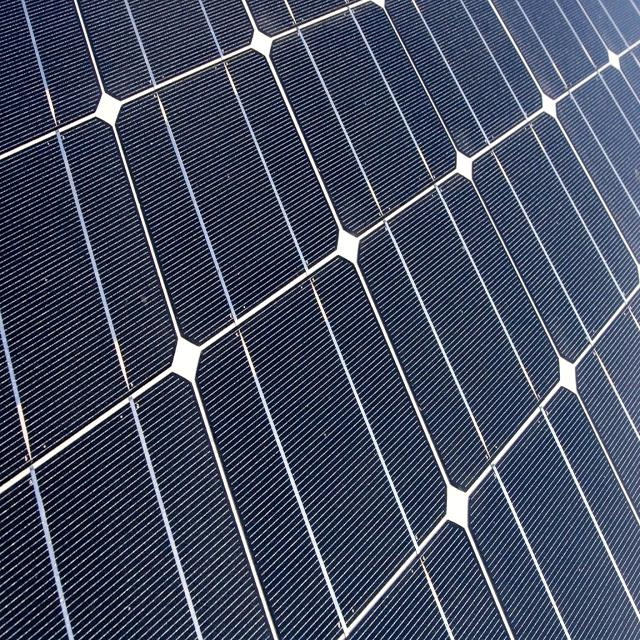crack: (154, 243, 486, 640), (338, 120, 625, 541), (102, 44, 350, 382), (440, 70, 640, 425), (258, 4, 504, 282)
